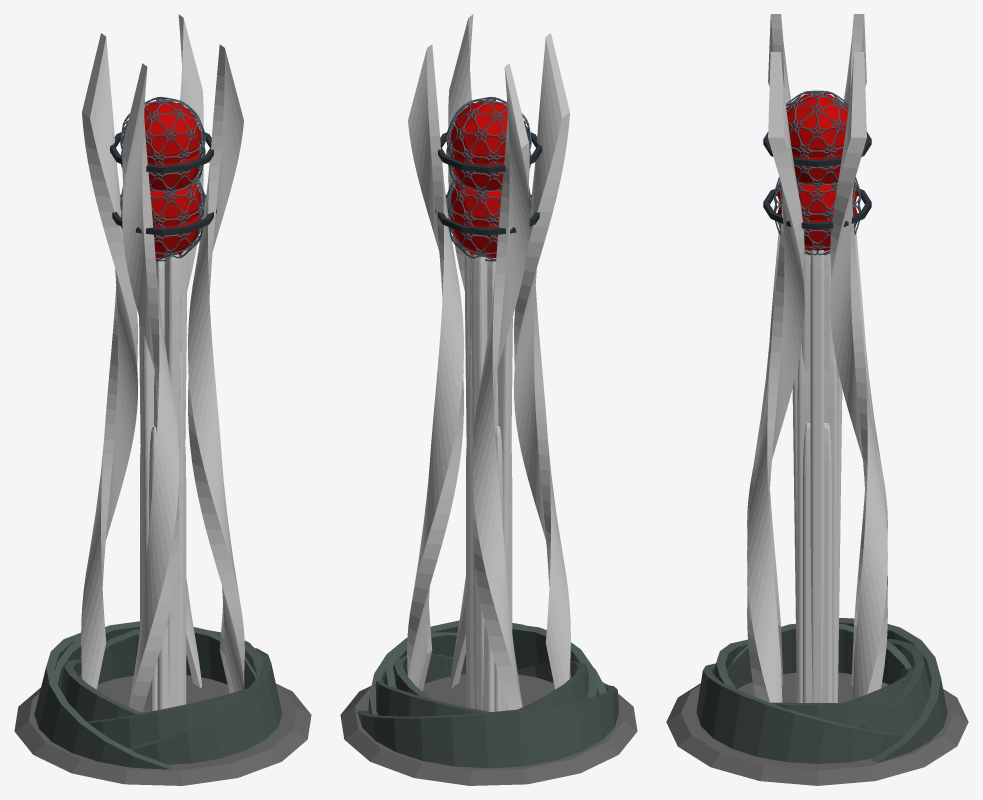
Rendered from building_70.fbx.
3 views of the same model, side by side, from view 1: azimuth 30°, elevation 25°; view 2: azimuth 150°, elevation 25°; view 3: azimuth 270°, elevation 25° (orthographic).
Parts seen in each view (by area): view 1: building_70; view 2: building_70; view 3: building_70.
Part boxes in pixels (x1,y1,x2,y2): building_70: [14, 14, 311, 785]; building_70: [340, 14, 637, 785]; building_70: [666, 14, 968, 785].
Size of the model in its own units: 2151 by 5440 by 2151.
